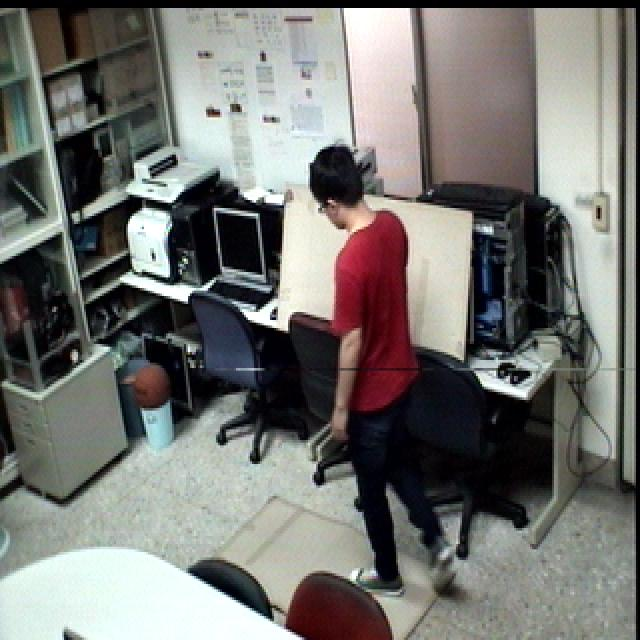stand: (300, 135, 472, 624)
